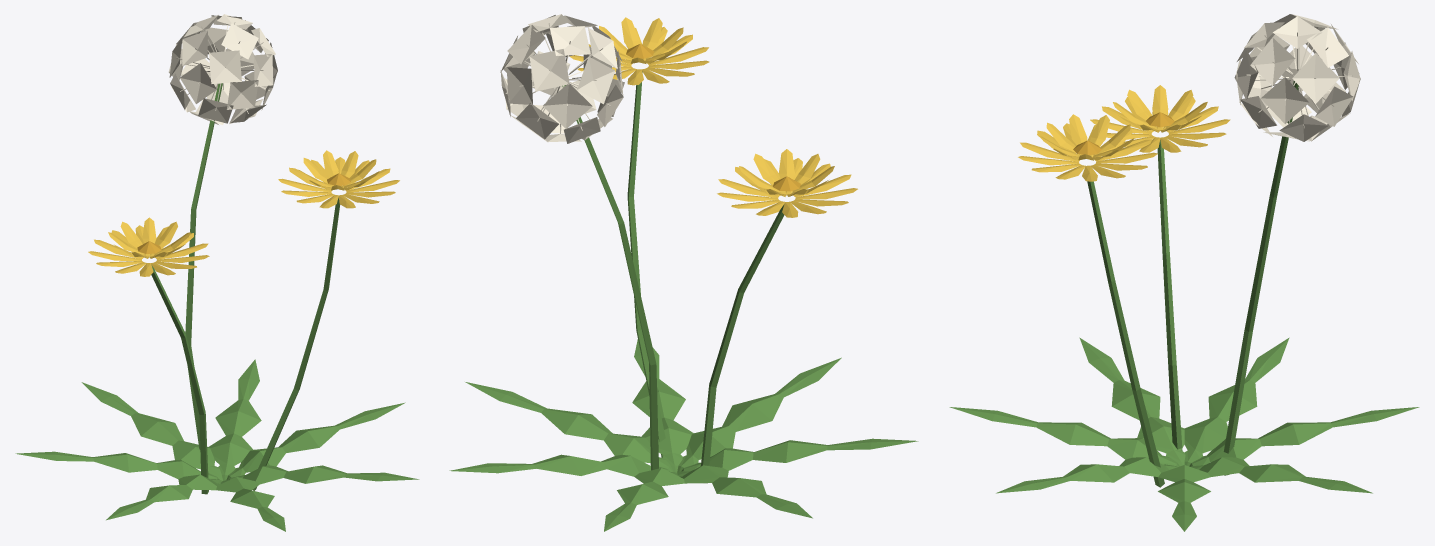
File: flower_dandelion.glb
3 views of the same model, side by side, from view 1: azimuth 30°, elevation 25°; view 2: azimuth 150°, elevation 25°; view 3: azimuth 270°, elevation 25° (orthographic). The views are drawn at different scales.
Visible parts, largest first — view 1: flower_dandelion; view 2: flower_dandelion; view 3: flower_dandelion.
Boxes of the visible parts, <box> form: flower_dandelion: <box>15,14,419,531</box>; flower_dandelion: <box>449,14,918,531</box>; flower_dandelion: <box>949,14,1419,531</box>.
Size of the model in its own units: 0.2851 by 0.33 by 0.2925.
